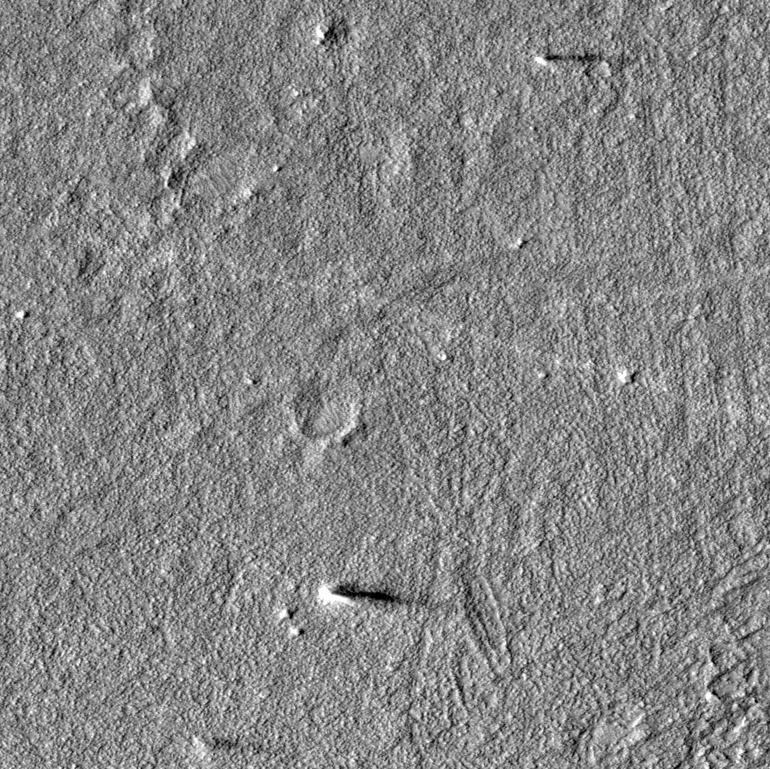dust_devil: (315, 583, 401, 609), (191, 734, 263, 761), (533, 51, 596, 66)
